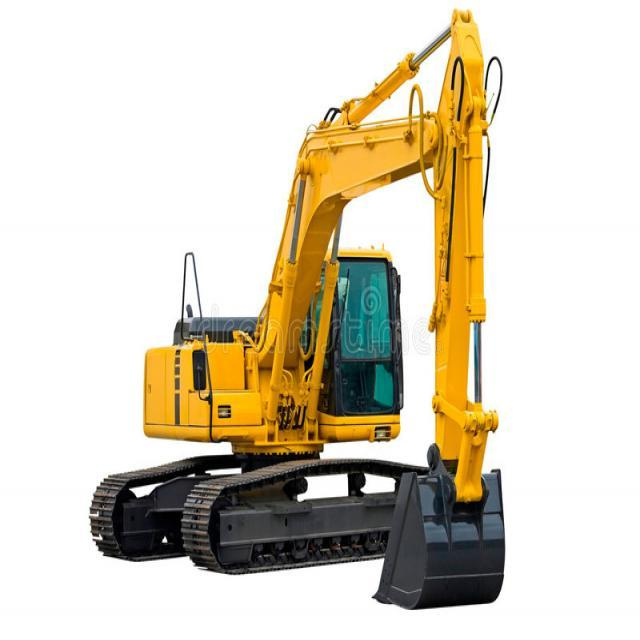C_E: (81, 6, 512, 614)
